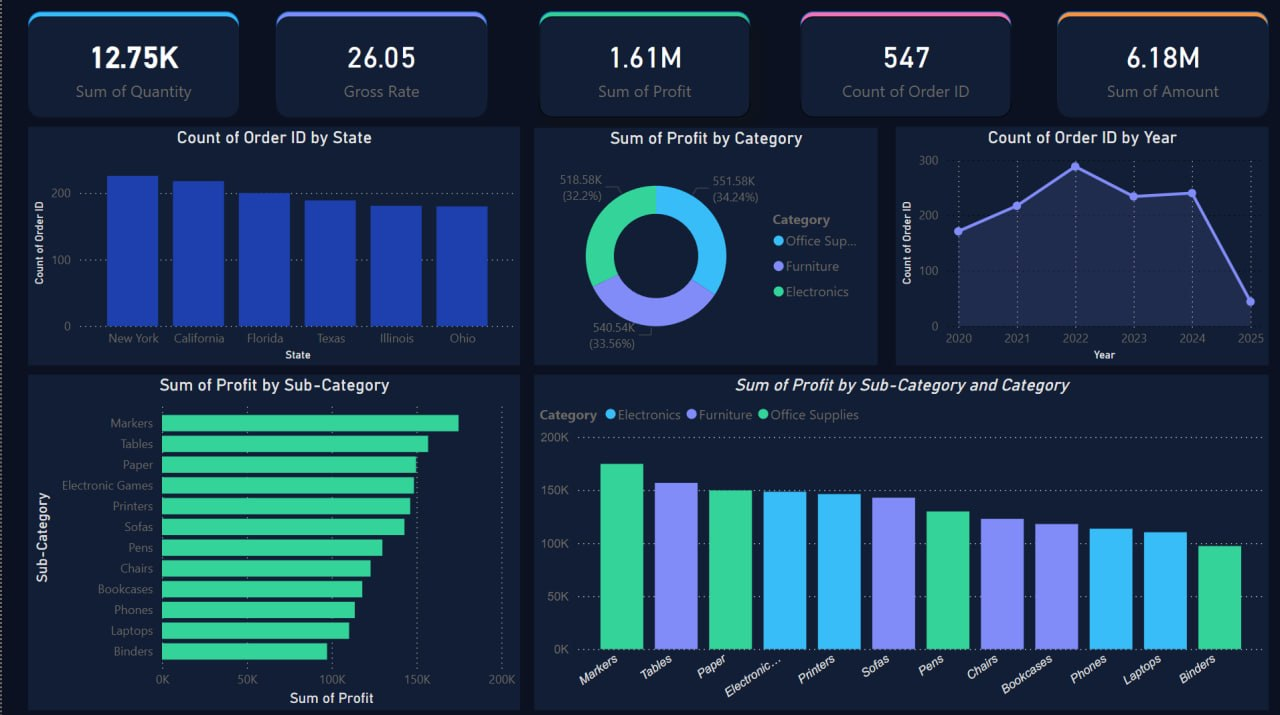

What the dashboard file says about the page in this screenshot:
{"tool":"powerbi","page":{"name":"Page 1","canvas":[1280,720],"ordinal":0},"visuals":[{"type":"shape","box":[1051,14,210,101],"z":0},{"type":"shape","box":[795,14,210,101],"z":1000},{"type":"shape","box":[535,14,210,101],"z":2000},{"type":"shape","box":[26,14,210,101],"z":3000},{"type":"shape","box":[273,14,210,101],"z":4000},{"type":"card","fields":{"Values":["Sum(Sales Dataset.Amount)"]},"box":[1051,19.1,210.2,100.6],"z":5000},{"type":"card","fields":{"Values":["Count(Sales Dataset.Order ID)"]},"box":[794.6,19.1,210.2,100.6],"z":6000},{"type":"card","fields":{"Values":["Sum(Sales Dataset.Profit)"]},"box":[535.1,19.1,210.2,100.6],"z":7000},{"type":"lineChart","fields":{"Category":["Sales Dataset.Order Date.Variation.Date Hierarchy.Year"],"Y":["CountNonNull(Sales Dataset.Order ID)"]},"box":[890.1,128.7,371.1,238.4],"z":8000},{"type":"donutChart","fields":{"Category":["Sales Dataset.Category"],"Y":["Sum(Sales Dataset.Profit)"]},"box":[530,129.7,342,237.4],"z":9000},{"type":"columnChart","fields":{"Y":["CountNonNull(Sales Dataset.Order ID)"],"Category":["Sales Dataset.State"]},"box":[26.2,128.7,489.8,238.4],"z":10000},{"type":"card","fields":{"Values":["Sales Dataset.Gross"]},"box":[272.6,19.1,210.2,100.6],"z":11000},{"type":"clusteredBarChart","fields":{"Category":["Sales Dataset.Sub-Category"],"Y":["Sum(Sales Dataset.Profit)"]},"box":[26.4,376.4,490,334.5],"z":12000},{"type":"columnChart","fields":{"Category":["Sales Dataset.Sub-Category"],"Y":["Sum(Sales Dataset.Profit)"],"Series":["Sales Dataset.Category"]},"box":[530,376.2,731.2,334.9],"z":13000},{"type":"card","fields":{"Values":["Sum(Sales Dataset.Quantity)"]},"box":[26.2,19.1,210.2,100.6],"z":14000}]}

Visuals, with their boxes in screenshot pixels (x1, y1, x2, y2), scaled from the page's 1280x720 canvas onto the 1280x715 screenshot:
shape: 1051/14/1261/114
shape: 795/14/1005/114
shape: 535/14/745/114
shape: 26/14/236/114
shape: 273/14/483/114
card - Sum(Sales Dataset.Amount): 1051/19/1261/119
card - Count(Sales Dataset.Order ID): 795/19/1005/119
card - Sum(Sales Dataset.Profit): 535/19/745/119
lineChart - Sales Dataset.Order Date.Variation.Date Hierarchy.Year x CountNonNull(Sales Dataset.Order ID): 890/128/1261/365
donutChart - Sales Dataset.Category x Sum(Sales Dataset.Profit): 530/129/872/365
columnChart - CountNonNull(Sales Dataset.Order ID) x Sales Dataset.State: 26/128/516/365
card - Sales Dataset.Gross: 273/19/483/119
clusteredBarChart - Sales Dataset.Sub-Category x Sum(Sales Dataset.Profit): 26/374/516/706
columnChart - Sales Dataset.Sub-Category x Sum(Sales Dataset.Profit): 530/374/1261/706
card - Sum(Sales Dataset.Quantity): 26/19/236/119
